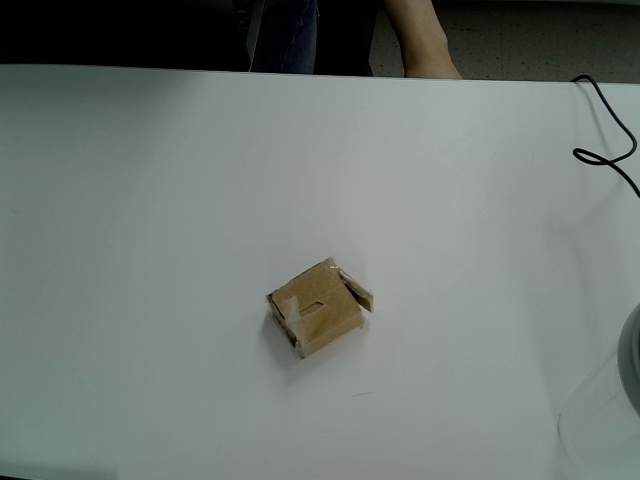defect: (266, 254, 378, 362)
